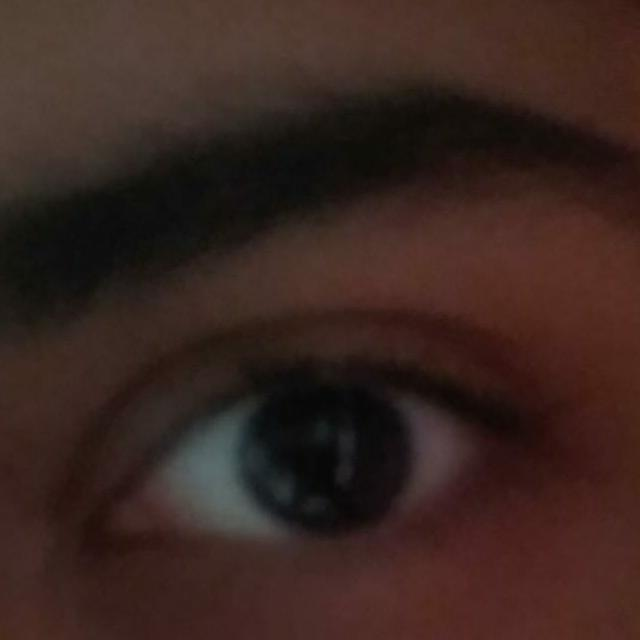eye: (140, 376, 482, 552)
iris: (237, 387, 418, 537)
